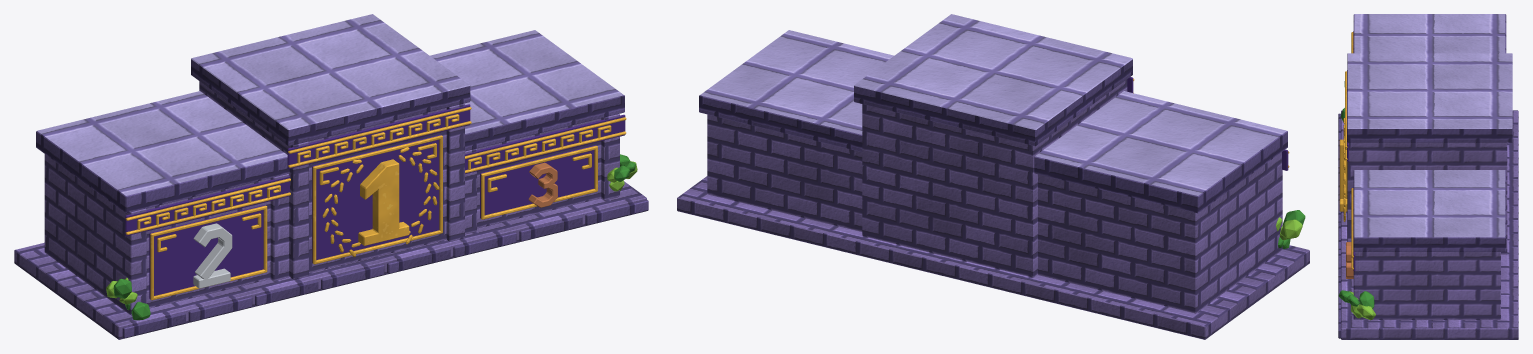
The model's file is Podio.fbx.
The picture shows the model from 3 angles, left to right: view 1: azimuth 30°, elevation 25°; view 2: azimuth 150°, elevation 25°; view 3: azimuth 270°, elevation 25°; orthographic projection. The views are drawn at different scales.
Visible parts, largest first — view 1: Kit_Podio; view 2: Kit_Podio; view 3: Kit_Podio.
Boxes of the visible parts, left/top/right/bottom form: Kit_Podio: left=14, top=14, right=648, bottom=339; Kit_Podio: left=677, top=14, right=1309, bottom=339; Kit_Podio: left=1338, top=14, right=1518, bottom=339.
Bounding box in the file's own units: 8.1 × 2.4 × 2.79.
